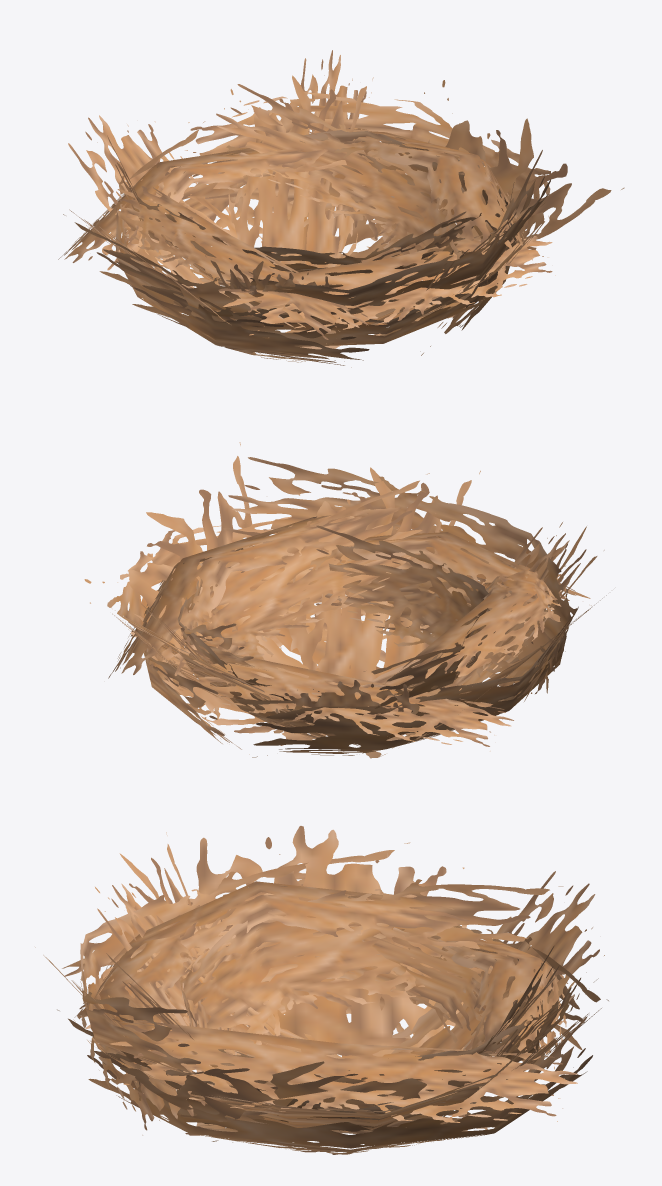
File: SM_ENV_birdnest_ancient_01.fbx
3 views of the same model, one above another, from view 1: azimuth 30°, elevation 25°; view 2: azimuth 150°, elevation 25°; view 3: azimuth 270°, elevation 25° (orthographic). The views are drawn at different scales.
Visible parts, largest first — view 1: SM_ENV_birdnest_ancient_01_LOD0; view 2: SM_ENV_birdnest_ancient_01_LOD0; view 3: SM_ENV_birdnest_ancient_01_LOD0.
Boxes of the visible parts, box(x1,y1,x2,y2) form: SM_ENV_birdnest_ancient_01_LOD0: box(58, 50, 624, 367); SM_ENV_birdnest_ancient_01_LOD0: box(84, 442, 606, 758); SM_ENV_birdnest_ancient_01_LOD0: box(35, 826, 608, 1154).
Size of the model in its own units: 58.44 by 24.5 by 61.15.
